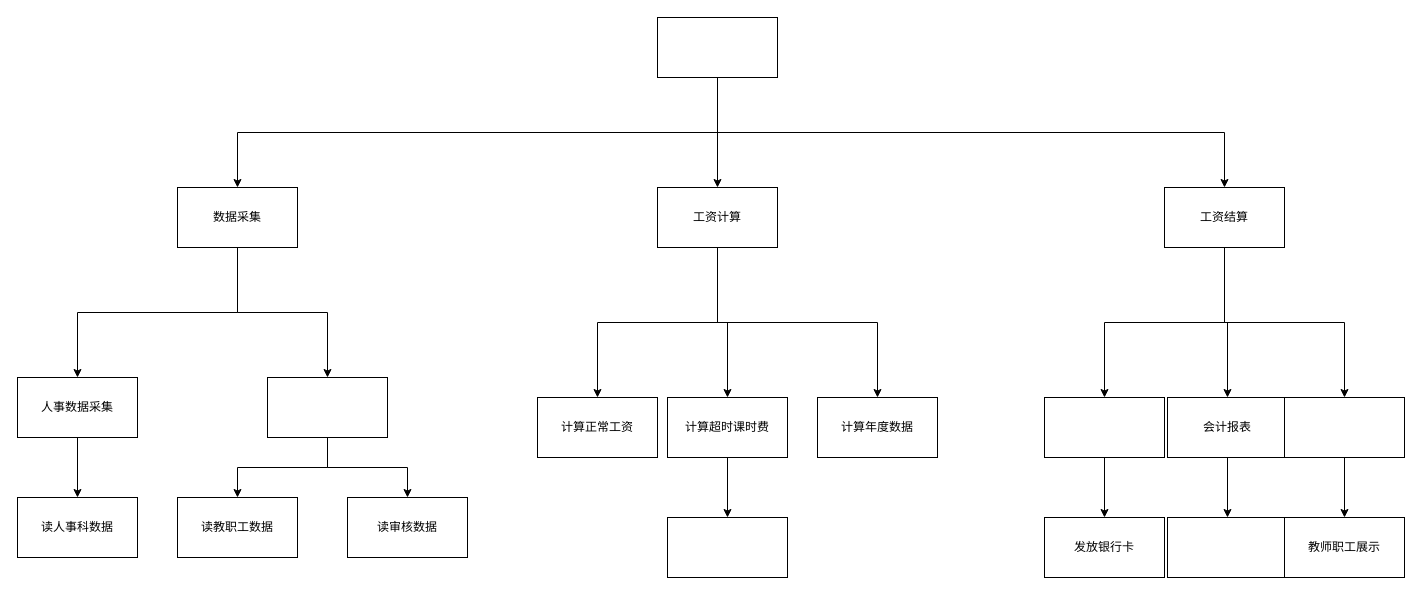
Image size: 1422x595. Some labels were removed from this diagram. The shapes that lost their labels are listed below. From the top down, each one's box as (x1, y1, x2, y2) in pixels, then its label:
(656, 16, 778, 78): 工资系统
(266, 376, 388, 438): 事务数据采集
(1044, 396, 1164, 458): 工资单结算
(1284, 396, 1404, 458): 工资明细表
(666, 516, 788, 578): 确定超时数据
(1166, 516, 1288, 578): 会计更新账单
